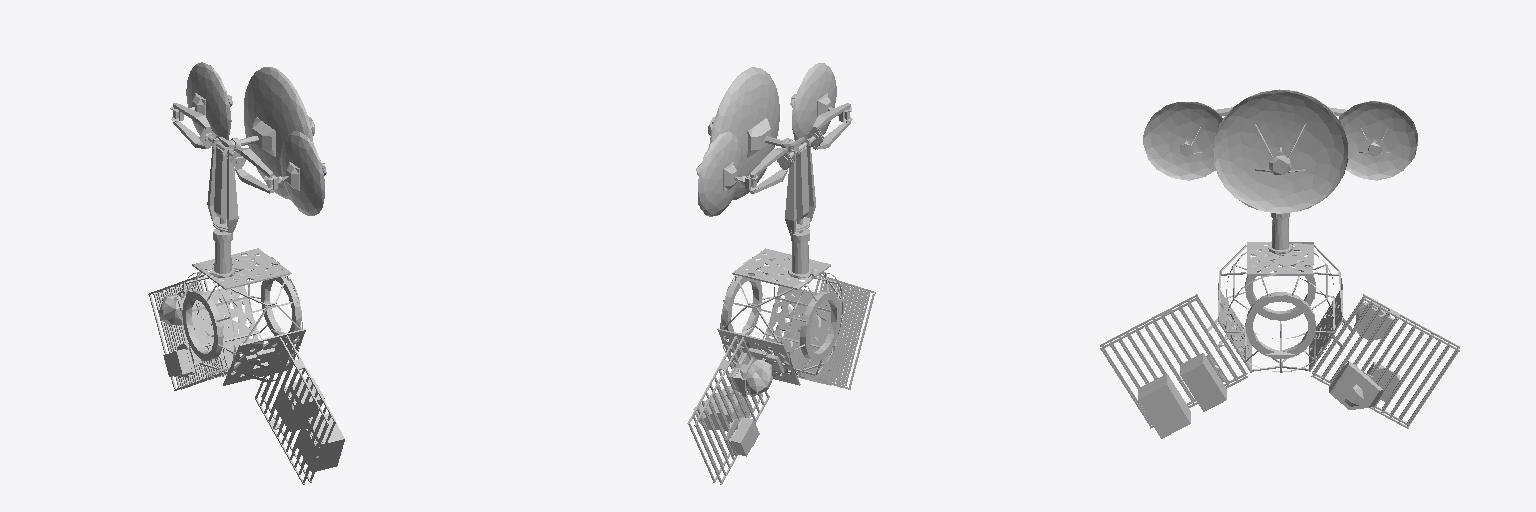
File: small_dish.obj
3 views of the same model, side by side, from view 1: azimuth 30°, elevation 25°; view 2: azimuth 150°, elevation 25°; view 3: azimuth 270°, elevation 25° (orthographic).
Bounding box in the file's own units: 4.92 × 15.02 × 13.79.